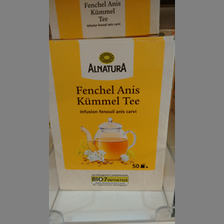tea: (49, 36, 173, 189)
